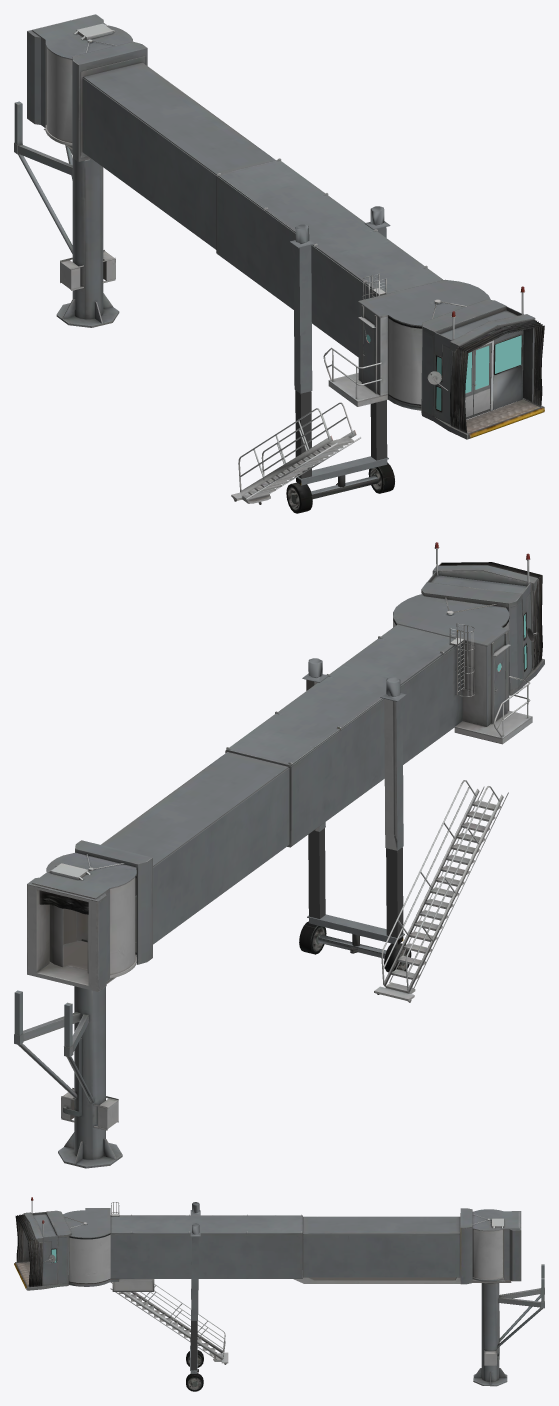
Rendered from jet_bridge.glb.
3 renders of one model, top to bottom at view 1: azimuth 30°, elevation 25°; view 2: azimuth 150°, elevation 25°; view 3: azimuth 270°, elevation 25°, orthographic. The views are drawn at different scales.
Parts seen in each view (by area): view 1: jet_bridge; view 2: jet_bridge; view 3: jet_bridge.
Part boxes in pixels (x1,y1,x2,y2): jet_bridge: (14, 14, 544, 513); jet_bridge: (14, 542, 544, 1168); jet_bridge: (14, 1197, 544, 1391).
Bounding box in the file's own units: 4.55 × 9.21 × 25.55.
Materials: 3 (1 with a texture image).
